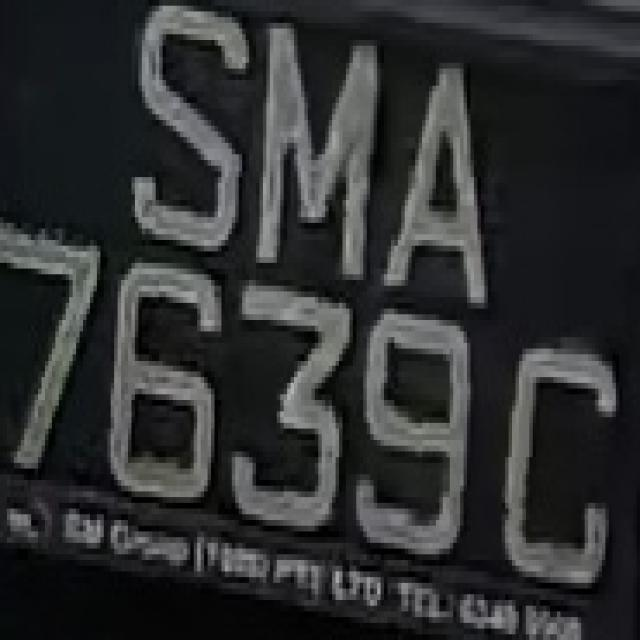3: (239, 251, 349, 543)
6: (93, 228, 225, 508)
7: (3, 194, 104, 492)
9: (342, 286, 478, 577)
A: (374, 57, 505, 332)
C: (498, 314, 616, 606)
M: (252, 17, 388, 286)
S: (121, 6, 253, 251)
